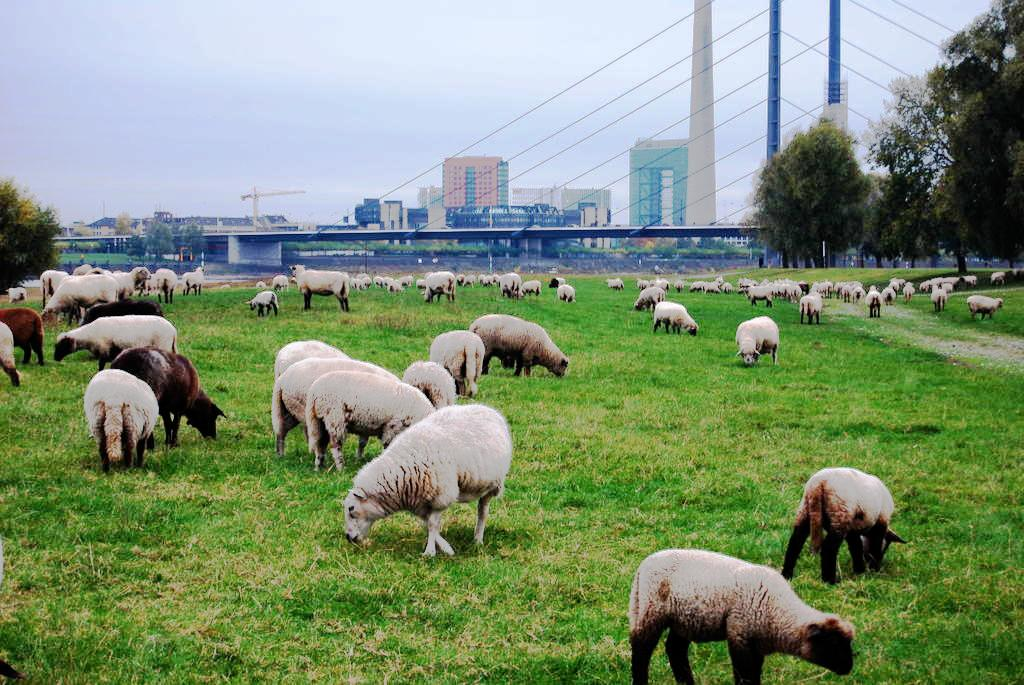Sheep: (622, 543, 873, 685), (338, 408, 512, 564), (775, 466, 909, 589), (265, 361, 400, 454), (302, 372, 436, 464), (113, 344, 221, 452), (83, 363, 159, 473), (52, 317, 184, 379), (464, 312, 577, 383), (272, 332, 360, 402), (36, 273, 124, 330), (425, 327, 485, 402), (398, 351, 458, 418), (286, 258, 356, 312), (0, 306, 46, 366), (735, 313, 783, 368), (95, 266, 153, 308), (653, 301, 702, 342), (418, 269, 462, 305), (242, 290, 284, 321), (964, 296, 1007, 324), (152, 267, 180, 308), (797, 289, 825, 327), (741, 283, 779, 310), (180, 265, 208, 299), (631, 287, 666, 312), (864, 284, 885, 321), (498, 273, 524, 302), (926, 282, 949, 313), (554, 283, 578, 306), (519, 279, 545, 299), (269, 273, 289, 292), (387, 282, 404, 294), (673, 280, 686, 295), (372, 276, 385, 289)
